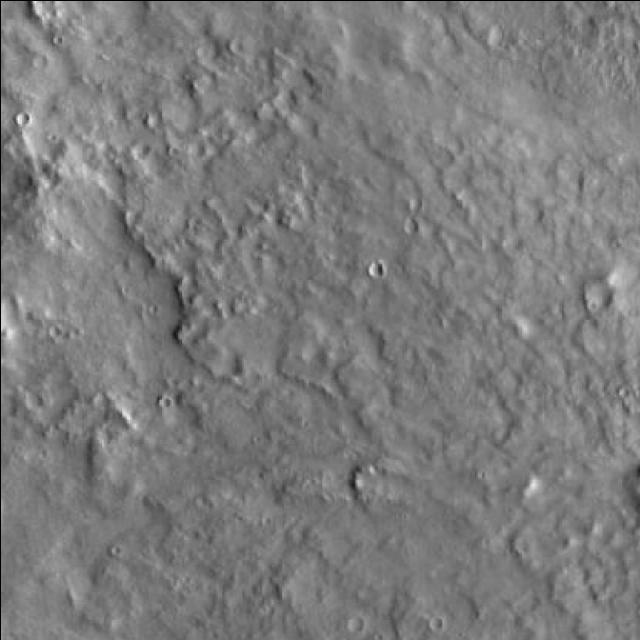crater: (581, 277, 610, 305)
